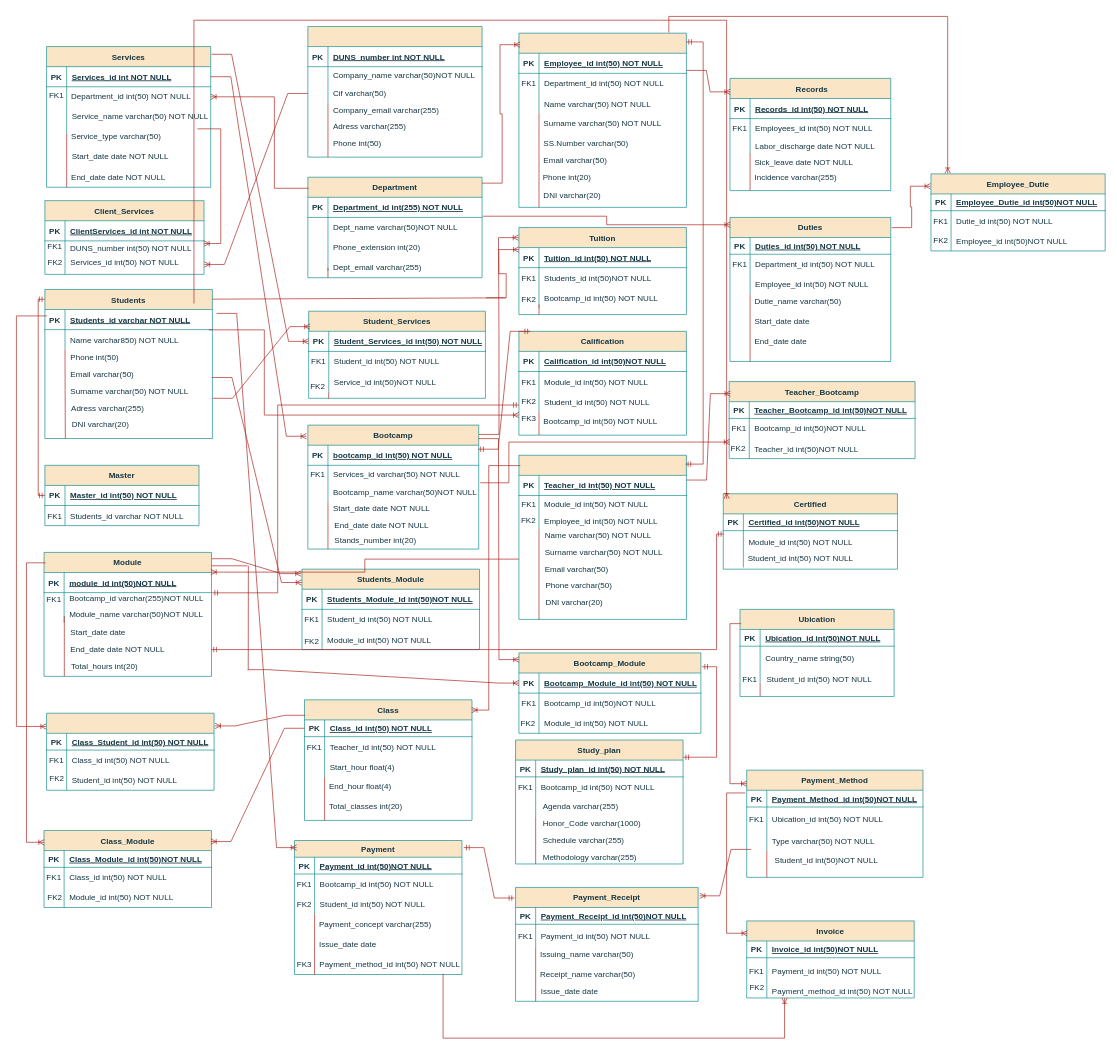
Some shapes in this 1117 by 1055 pixel diagram are drawn without their labels. Each missing label, with the box of its shape:
Class_Students: (46, 713, 214, 790)
Client: (307, 26, 482, 157)
Employees: (518, 32, 686, 207)
Teachers: (518, 455, 686, 619)
